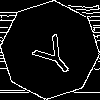Y: (25, 25, 80, 82)
